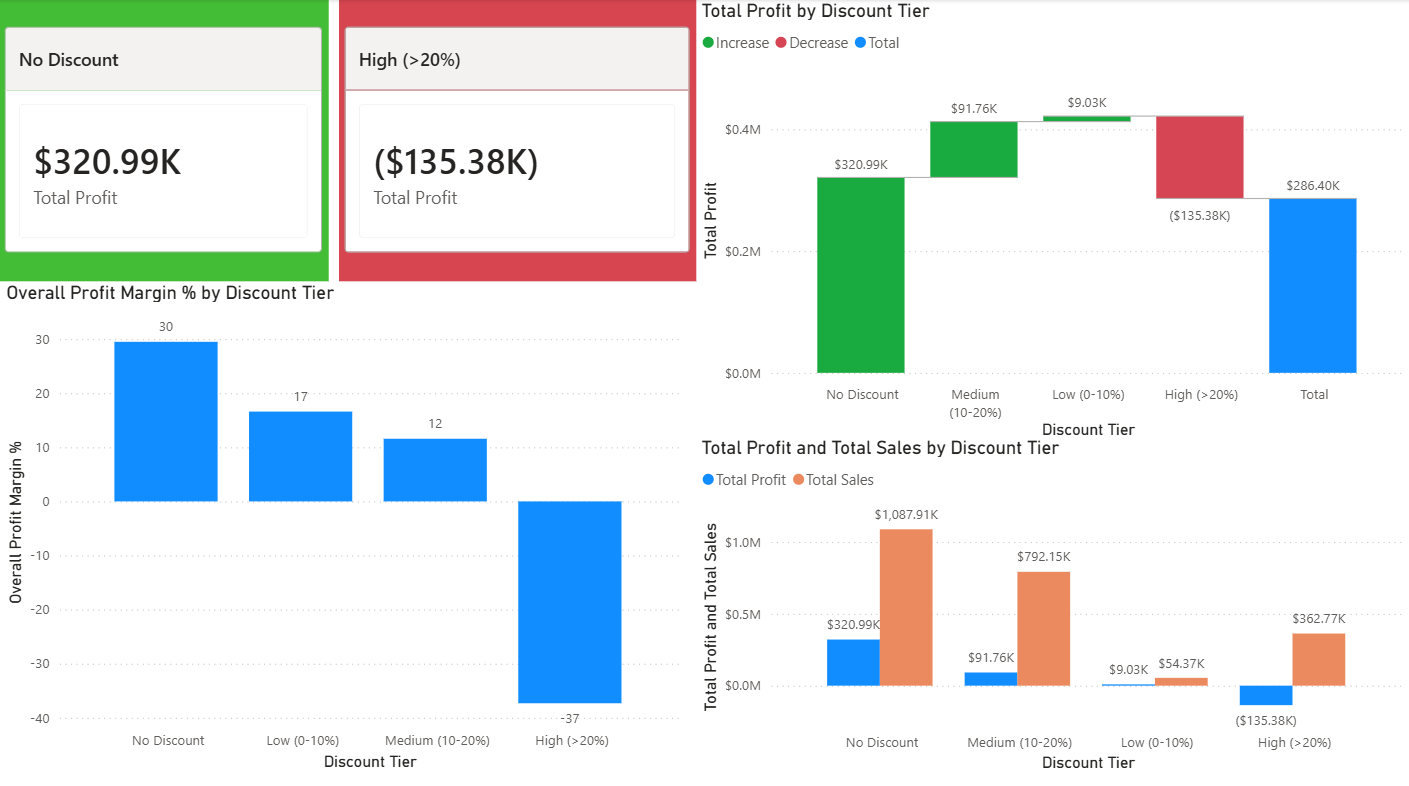

This screenshot's page, from the dashboard's own definition file:
{"tool":"powerbi","page":{"name":"Page 4","canvas":[1280,720],"ordinal":3},"visuals":[{"type":"clusteredColumnChart","fields":{"Category":["Transformed Data.Discount Tier"],"Y":["Transformed Data.Overall Profit Margin %"]},"box":[1.9,255.8,620.5,448.4],"z":0},{"type":"waterfallChart","fields":{"Category":["Transformed Data.Discount Tier"],"Y":["Transformed Data.Total Profit"]},"box":[632.2,0,647.8,402.7],"z":1000},{"type":"cardVisual","fields":{"Rows":["Transformed Data.Discount Tier"],"Data":["Transformed Data.Total Profit"]},"box":[308.3,0,323.9,255.8],"z":2000},{"type":"cardVisual","fields":{"Rows":["Transformed Data.Discount Tier"],"Data":["Transformed Data.Total Profit"]},"box":[0,0,298.6,255.8],"z":3000},{"type":"clusteredColumnChart","fields":{"Category":["Transformed Data.Discount Tier"],"Y":["Transformed Data.Total Profit","Transformed Data.Total Sales"]},"box":[632.2,395.9,647.8,308.3],"z":4000}]}

Visuals, with their boxes in screenshot pixels (x1, y1, x2, y2), scaled from the page's 1280x720 canvas onto the 1409x786 screenshot:
clusteredColumnChart - Transformed Data.Discount Tier x Transformed Data.Overall Profit Margin %: left=2, top=279, right=685, bottom=769
waterfallChart - Transformed Data.Discount Tier x Transformed Data.Total Profit: left=696, top=0, right=1408, bottom=440
cardVisual - Transformed Data.Discount Tier x Transformed Data.Total Profit: left=339, top=0, right=696, bottom=279
cardVisual - Transformed Data.Discount Tier x Transformed Data.Total Profit: left=0, top=0, right=329, bottom=279
clusteredColumnChart - Transformed Data.Discount Tier x Transformed Data.Total Profit: left=696, top=432, right=1408, bottom=769
